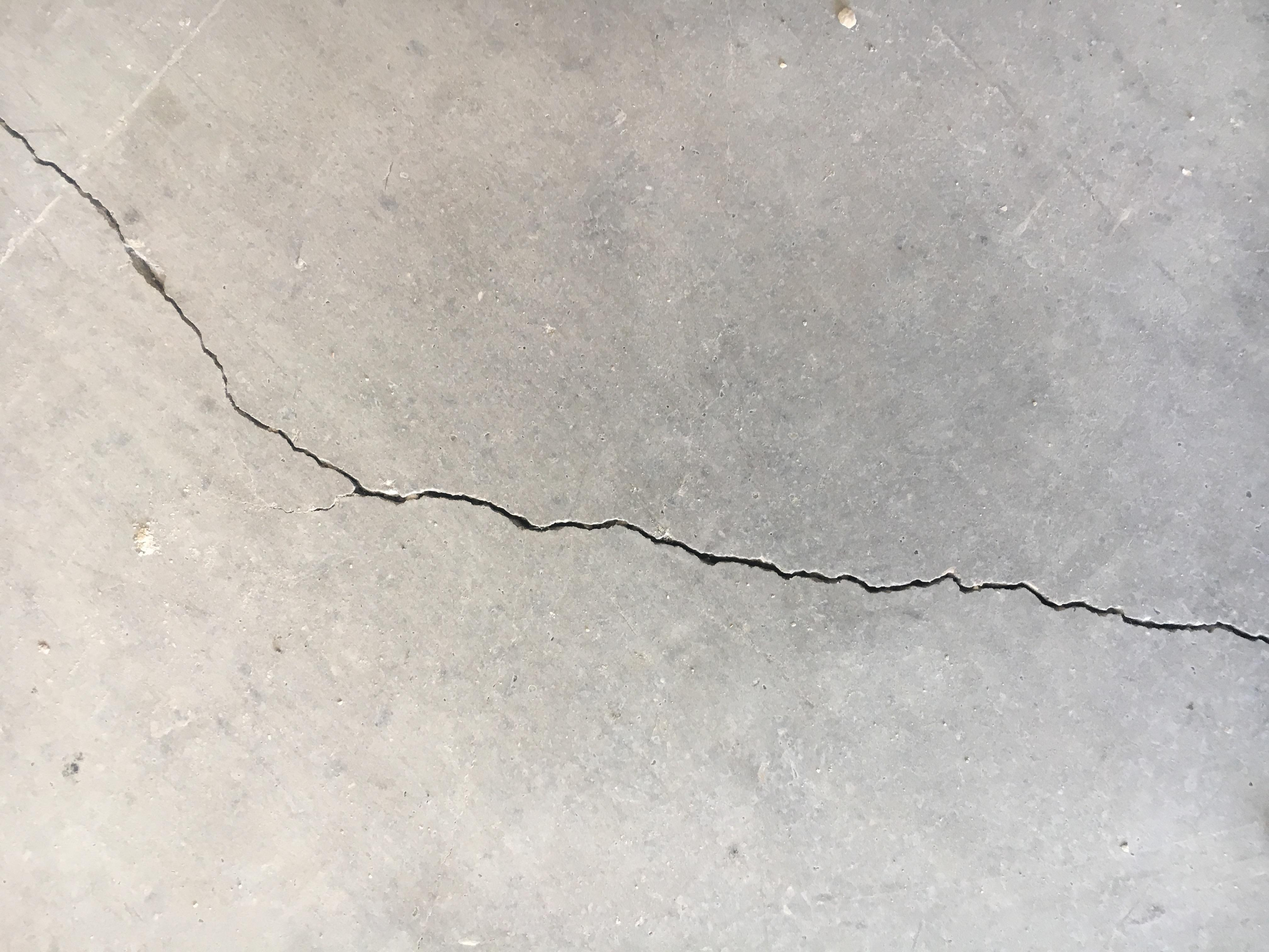Diagonal Crack: (3, 115, 1265, 646)
